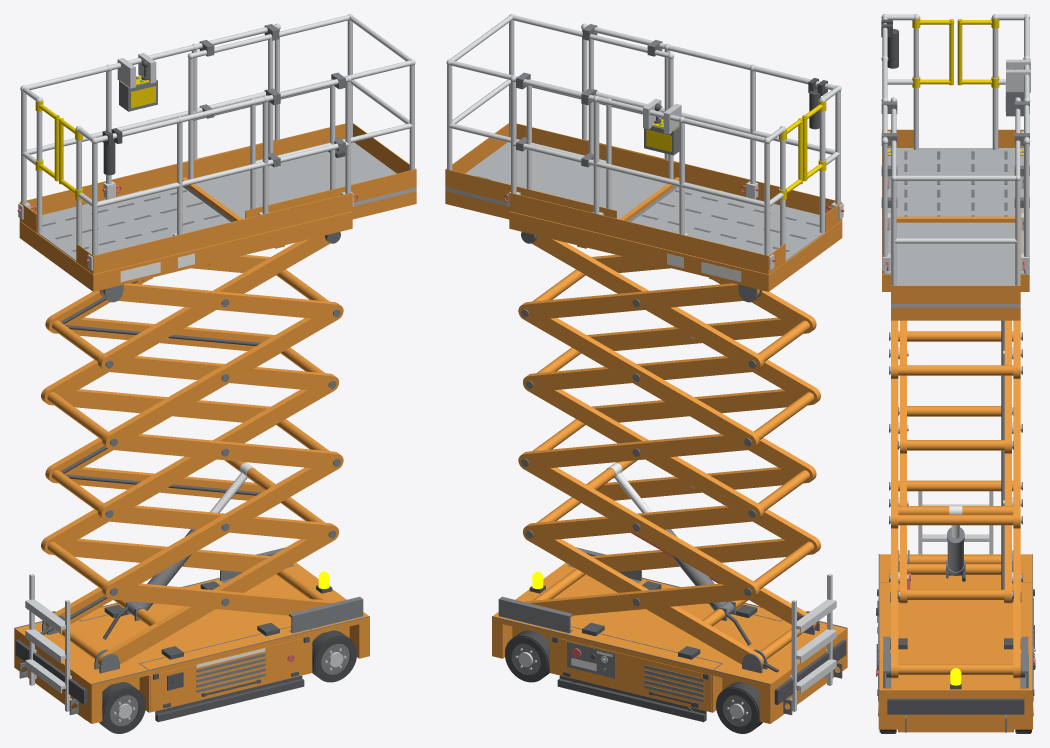
File: scissor-lift-26ft-raised.glb
3 renders of one model, left to right at view 1: azimuth 30°, elevation 25°; view 2: azimuth 150°, elevation 25°; view 3: azimuth 270°, elevation 25°, orthographic.
Visible parts, largest first — view 1: chassis_spine, ladder, deck, deck_edge, bumpers, tyre, entry_gate, ground_toggle, decals; view 2: chassis_spine, ladder, deck, deck_edge, bumpers, tyre, entry_gate, ground_toggle, decals; view 3: chassis_spine, deck, ladder, deck_edge, bumpers, entry_gate, ground_toggle.
Boxes of the visible parts, x1=… form: chassis_spine: x1=14, y1=123, x2=416, y2=723; ladder: x1=18, y1=14, x2=415, y2=711; deck: x1=38, y1=142, x2=416, y2=261; deck_edge: x1=14, y1=24, x2=369, y2=725; bumpers: x1=15, y1=60, x2=345, y2=722; tyre: x1=99, y1=630, x2=356, y2=733; entry_gate: x1=35, y1=75, x2=155, y2=200; ground_toggle: x1=113, y1=53, x2=346, y2=721; decals: x1=120, y1=253, x2=265, y2=667; chassis_spine: x1=445, y1=123, x2=847, y2=723; ladder: x1=446, y1=14, x2=843, y2=711; deck: x1=445, y1=142, x2=823, y2=261; deck_edge: x1=492, y1=24, x2=847, y2=725; bumpers: x1=476, y1=78, x2=846, y2=722; tyre: x1=505, y1=630, x2=762, y2=733; entry_gate: x1=646, y1=100, x2=826, y2=200; ground_toggle: x1=515, y1=98, x2=748, y2=721; decals: x1=571, y1=253, x2=741, y2=671; chassis_spine: x1=878, y1=129, x2=1032, y2=732; deck: x1=883, y1=148, x2=1028, y2=307; ladder: x1=881, y1=14, x2=1030, y2=554; deck_edge: x1=878, y1=91, x2=1033, y2=732; bumpers: x1=876, y1=19, x2=1034, y2=714; entry_gate: x1=887, y1=17, x2=1023, y2=155; ground_toggle: x1=878, y1=59, x2=1035, y2=716.
Bounding box in the file's own units: 2.99 × 5.04 × 1.21.
